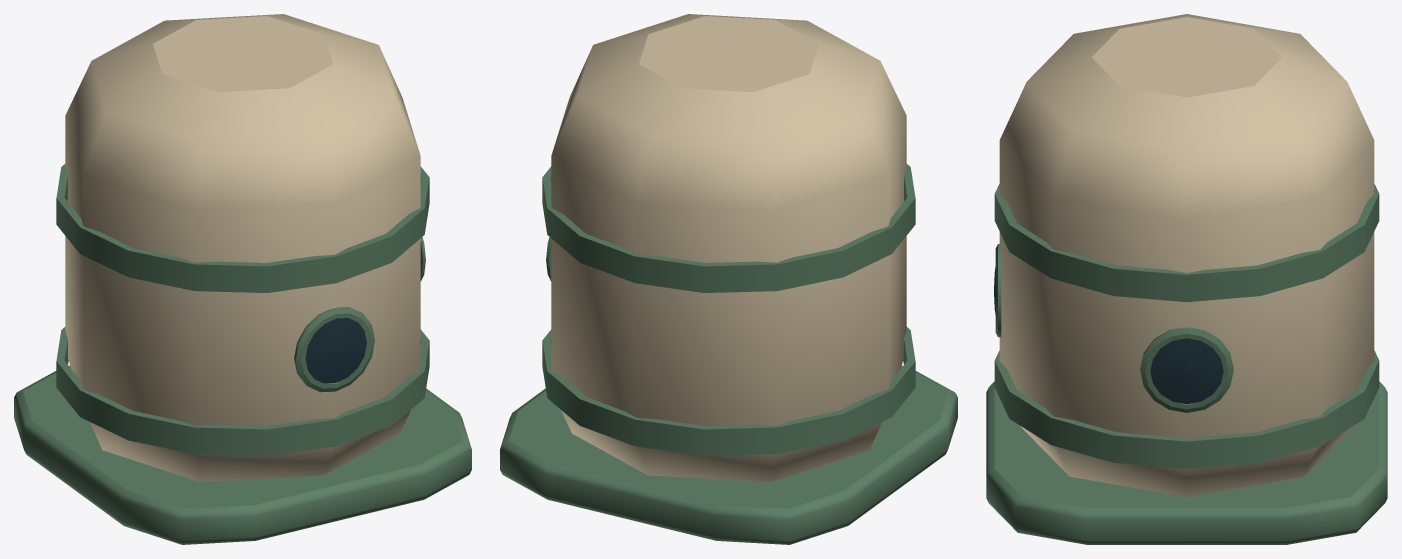
The model's file is t200_water.obj.
3 renders of one model, left to right at view 1: azimuth 30°, elevation 25°; view 2: azimuth 150°, elevation 25°; view 3: azimuth 270°, elevation 25°, orthographic. The views are drawn at different scales.
Visible parts, largest first — view 1: t200_water; view 2: t200_water; view 3: t200_water.
Boxes of the visible parts, x1,y1,x2,y2 form: t200_water: (14, 14, 471, 544); t200_water: (500, 14, 957, 544); t200_water: (986, 14, 1387, 544).
Bounding box in the file's own units: 2.4 × 2.68 × 2.4.
